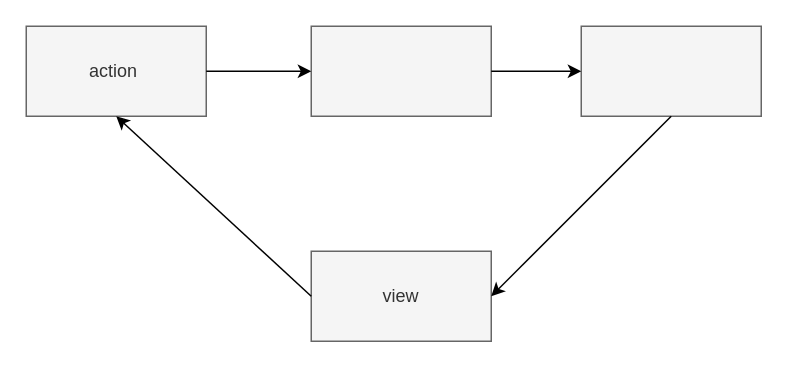
Image size: 788x368. Some labels were removed from this diagram. Each missing label, with the centre of its shape:
"reducer" belongs at [400,70].
"store" belongs at [670,70].
